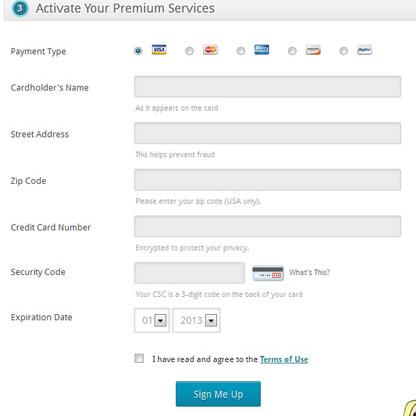button: (174, 380, 262, 408)
checkbox: (134, 353, 147, 365)
checkbox_with_label: (131, 350, 311, 368)
field: (131, 74, 402, 99), (131, 167, 401, 191), (131, 214, 401, 237), (132, 122, 401, 145), (132, 261, 246, 285), (171, 307, 221, 333), (133, 307, 169, 333)
field_with_label: (9, 72, 405, 100), (9, 211, 403, 239), (9, 120, 405, 147), (9, 166, 404, 193), (9, 259, 248, 287), (12, 306, 171, 334)
radio: (339, 44, 350, 57), (185, 45, 196, 56), (133, 44, 143, 54), (288, 46, 298, 56), (235, 45, 246, 54)
